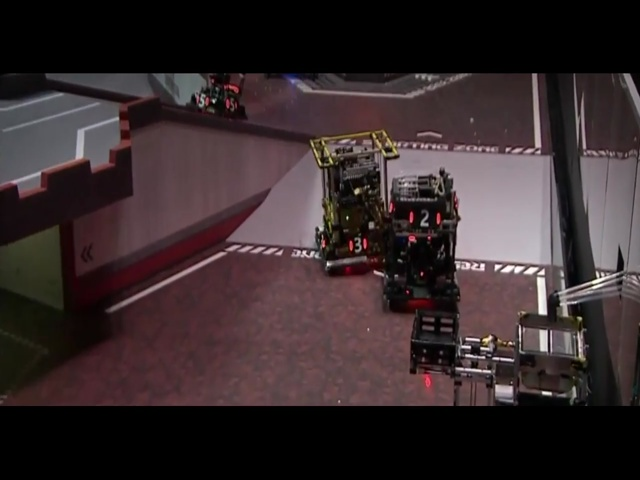plate: (57, 324, 100, 355), (375, 311, 395, 337), (210, 162, 235, 181), (252, 158, 274, 179), (123, 316, 140, 343), (315, 315, 330, 339), (118, 193, 133, 211), (276, 136, 291, 151), (302, 133, 311, 150)
